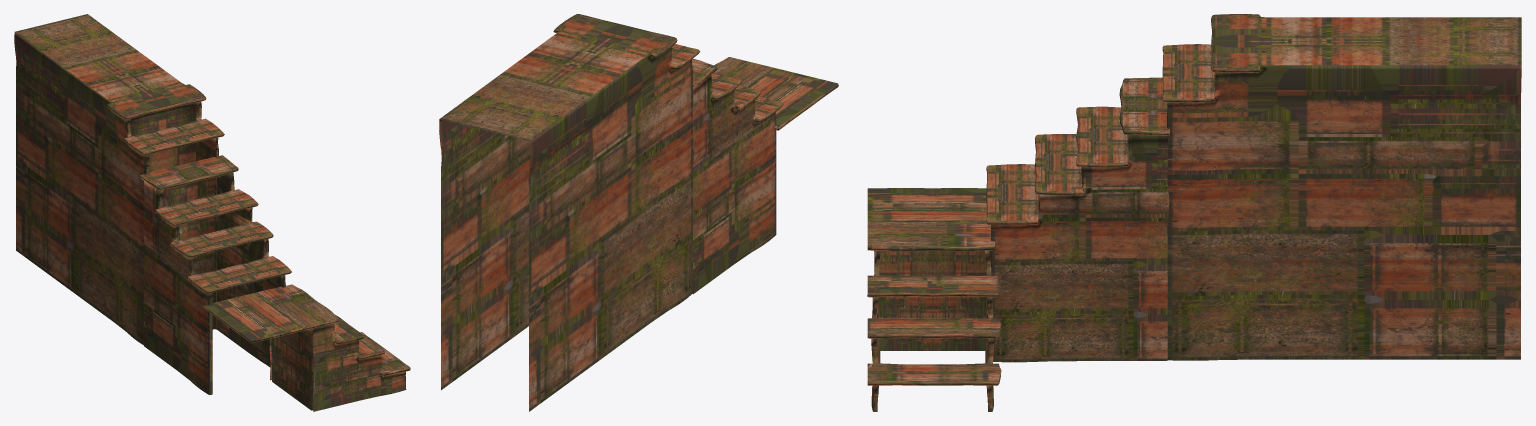
File: stair - Copy.fbx
3 views of the same model, side by side, from view 1: azimuth 30°, elevation 25°; view 2: azimuth 150°, elevation 25°; view 3: azimuth 270°, elevation 25° (orthographic). The views are drawn at different scales.
Parts seen in each view (by area): view 1: Stair1; view 2: Stair1; view 3: Stair1.
Part boxes in pixels (x1=…): Stair1: x1=14, y1=14, x2=410, y2=411; Stair1: x1=439, y1=14, x2=838, y2=411; Stair1: x1=867, y1=14, x2=1521, y2=411.
Size of the model in its own units: 169 by 219 by 441.
